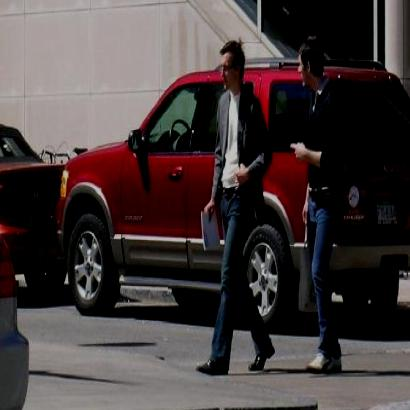ped: (197, 40, 274, 373), (291, 40, 342, 372)
